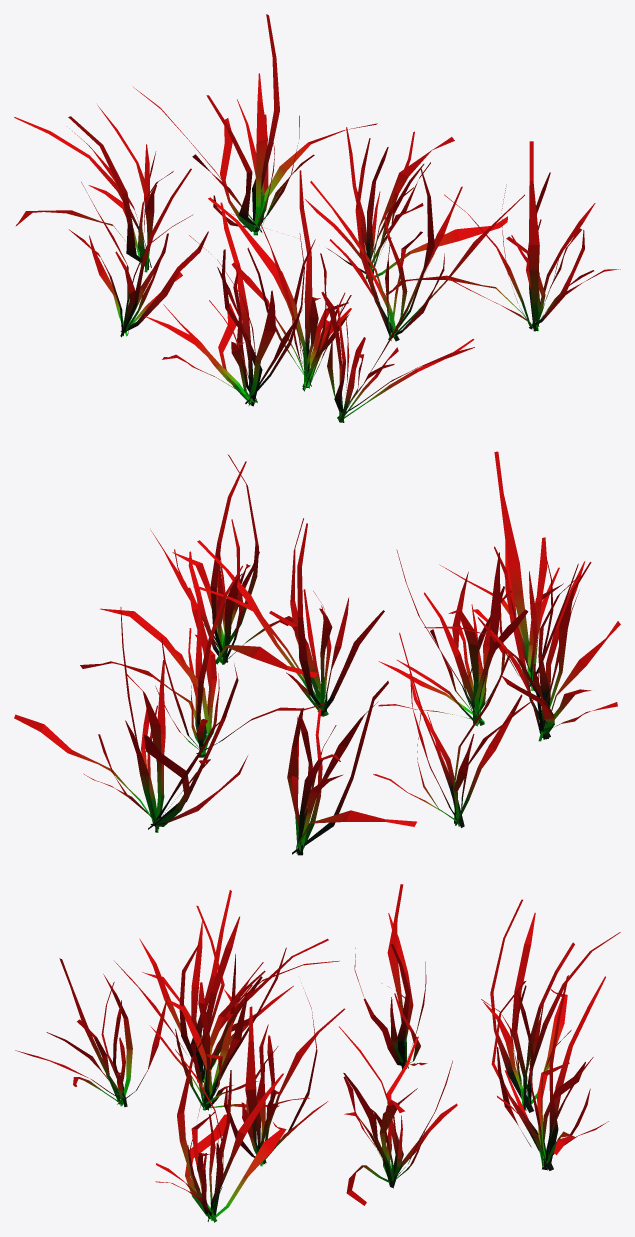
The model's file is GrassBlades2_Var3.FBX.
The picture shows the model from 3 angles, top to bottom: view 1: azimuth 30°, elevation 25°; view 2: azimuth 150°, elevation 25°; view 3: azimuth 270°, elevation 25°; orthographic projection. The views are drawn at different scales.
Visible parts, largest first — view 1: GrassBlades2_Var3_LOD0; view 2: GrassBlades2_Var3_LOD0; view 3: GrassBlades2_Var3_LOD0.
Boxes of the visible parts, x1=… form: GrassBlades2_Var3_LOD0: x1=14, y1=14, x2=620, y2=422; GrassBlades2_Var3_LOD0: x1=14, y1=451, x2=620, y2=855; GrassBlades2_Var3_LOD0: x1=15, y1=884, x2=620, y2=1222.
Size of what is drawn, in the model's own units: 55.58 by 25.16 by 67.05.
